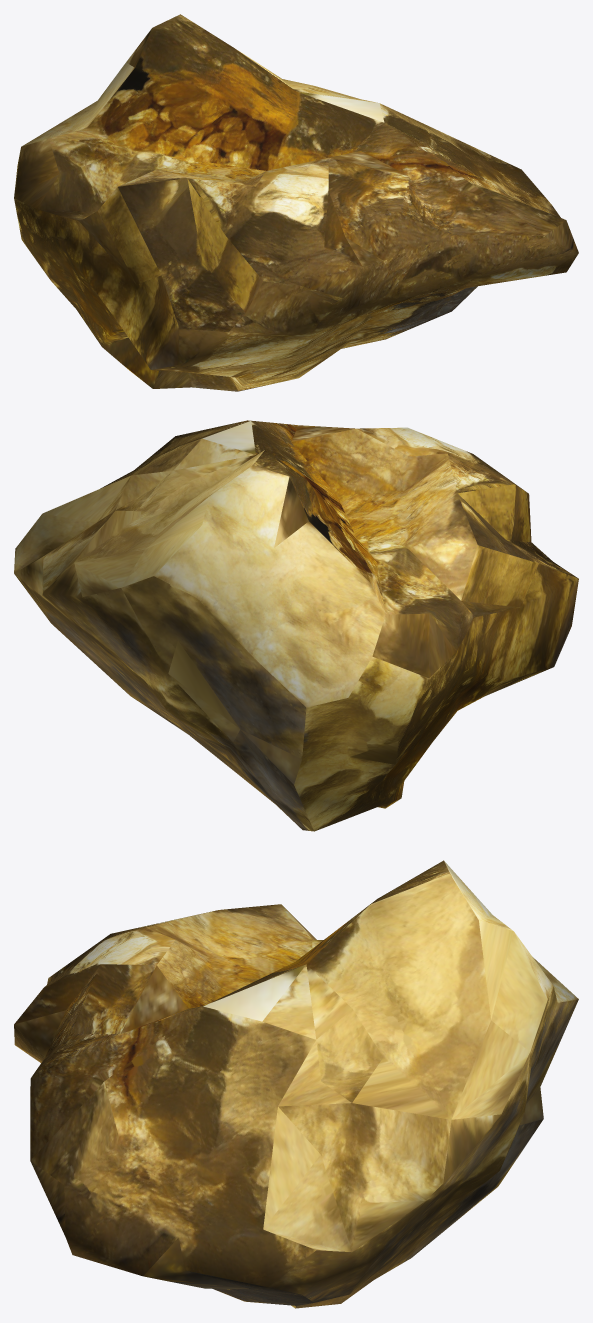
File: goldSmall.glb
The picture shows the model from 3 angles, top to bottom: view 1: azimuth 30°, elevation 25°; view 2: azimuth 150°, elevation 25°; view 3: azimuth 270°, elevation 25°; orthographic projection. The views are drawn at different scales.
Visible parts, largest first — view 1: goldSmall.001; view 2: goldSmall.001; view 3: goldSmall.001.
Boxes of the visible parts, <box> form: goldSmall.001: <box>14,14,578,391</box>; goldSmall.001: <box>14,420,578,831</box>; goldSmall.001: <box>14,860,578,1308</box>.
Bounding box in the file's own units: 0.1196 × 0.0918 × 0.1111.
1 material, 1 textured.
